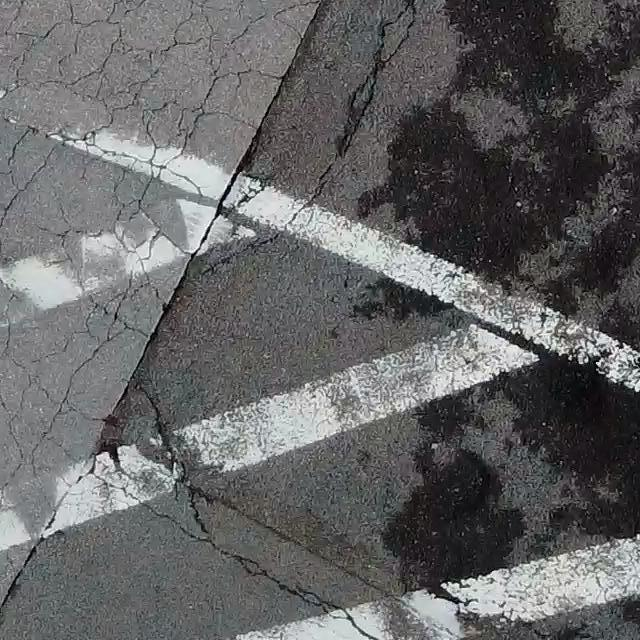GRIETA: (207, 493, 389, 594), (210, 545, 380, 639)
PIEL DE COCODRILO: (0, 0, 434, 627)
